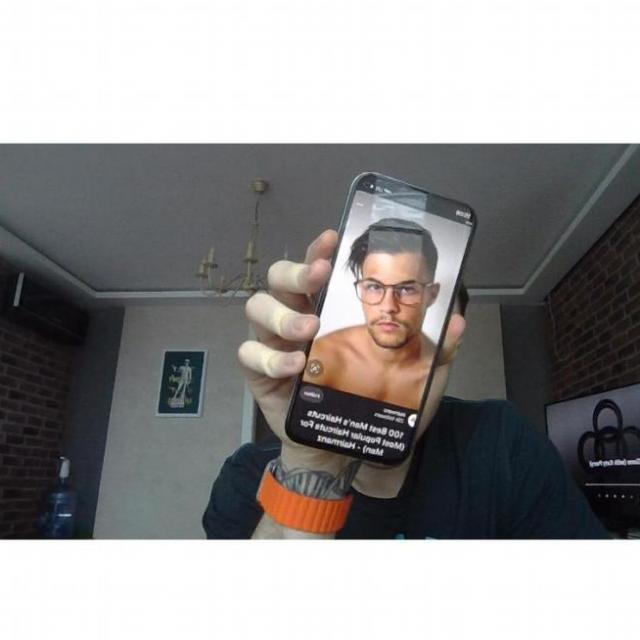device: (276, 170, 480, 468)
